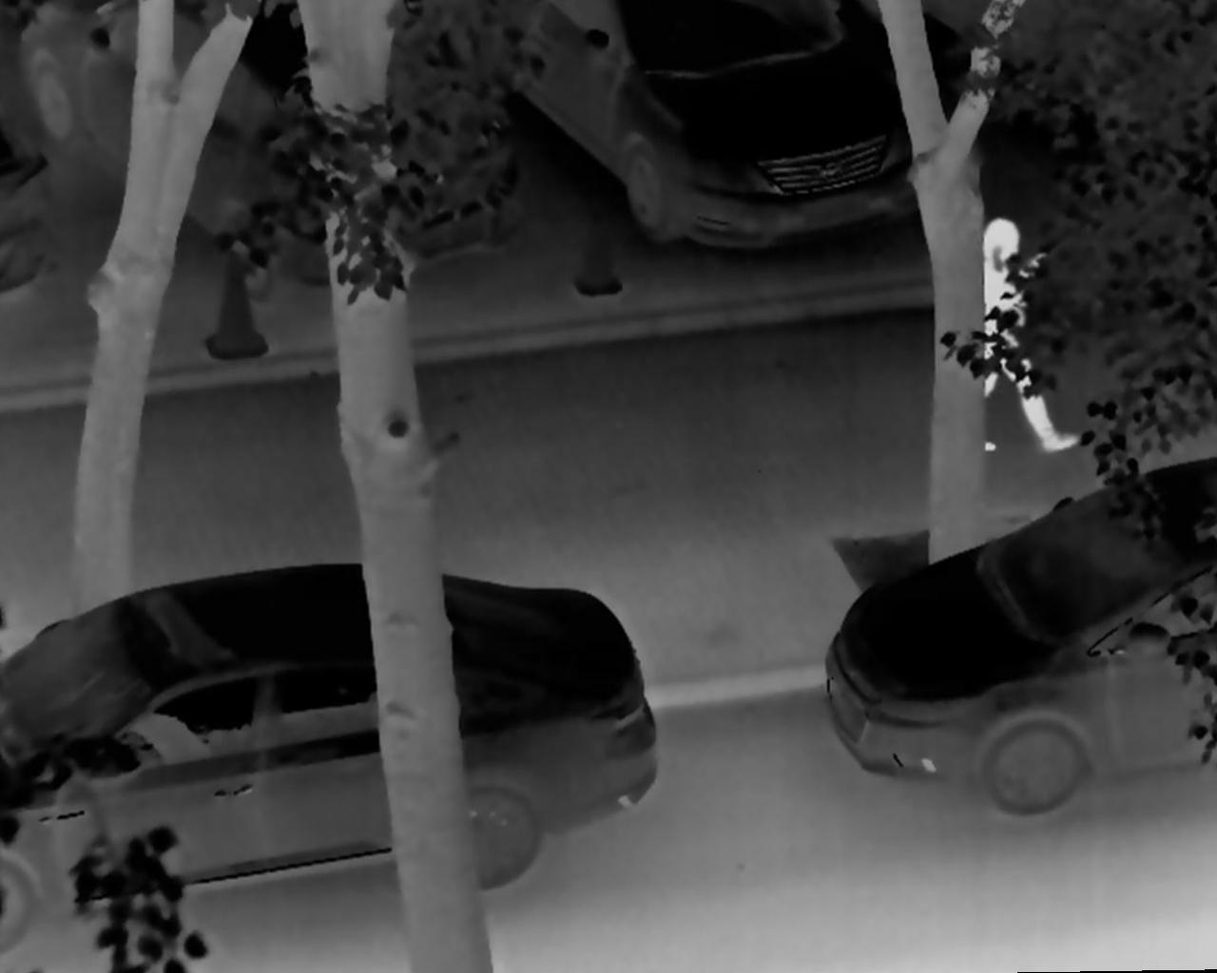person: (971, 214, 1087, 460)
